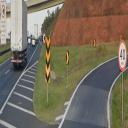speed_limit_40: (118, 38, 127, 72)
